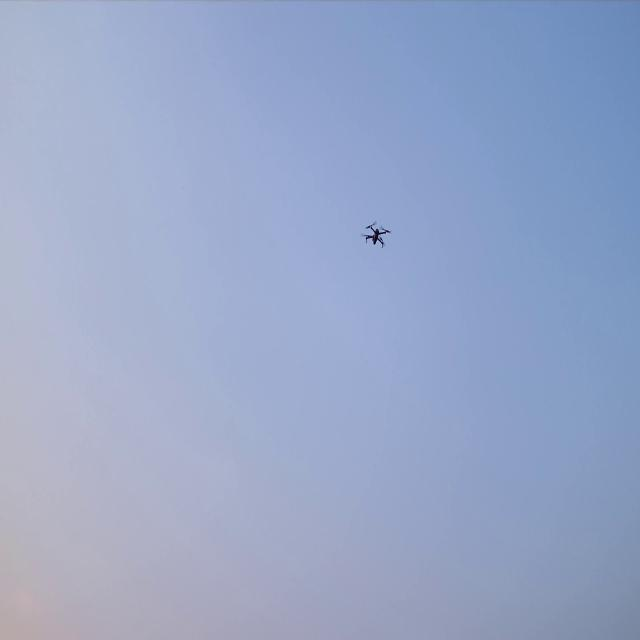UAV: (358, 220, 392, 250)
